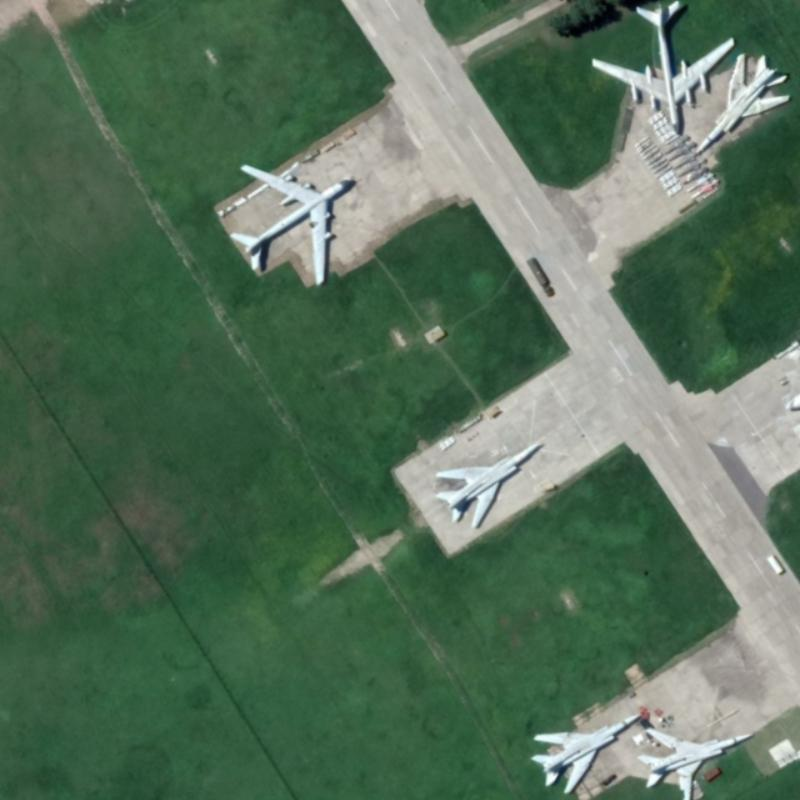A12: (692, 50, 791, 154), (527, 710, 643, 796), (433, 440, 541, 530), (635, 724, 753, 799)
A17: (588, 0, 736, 136), (226, 161, 352, 286)
